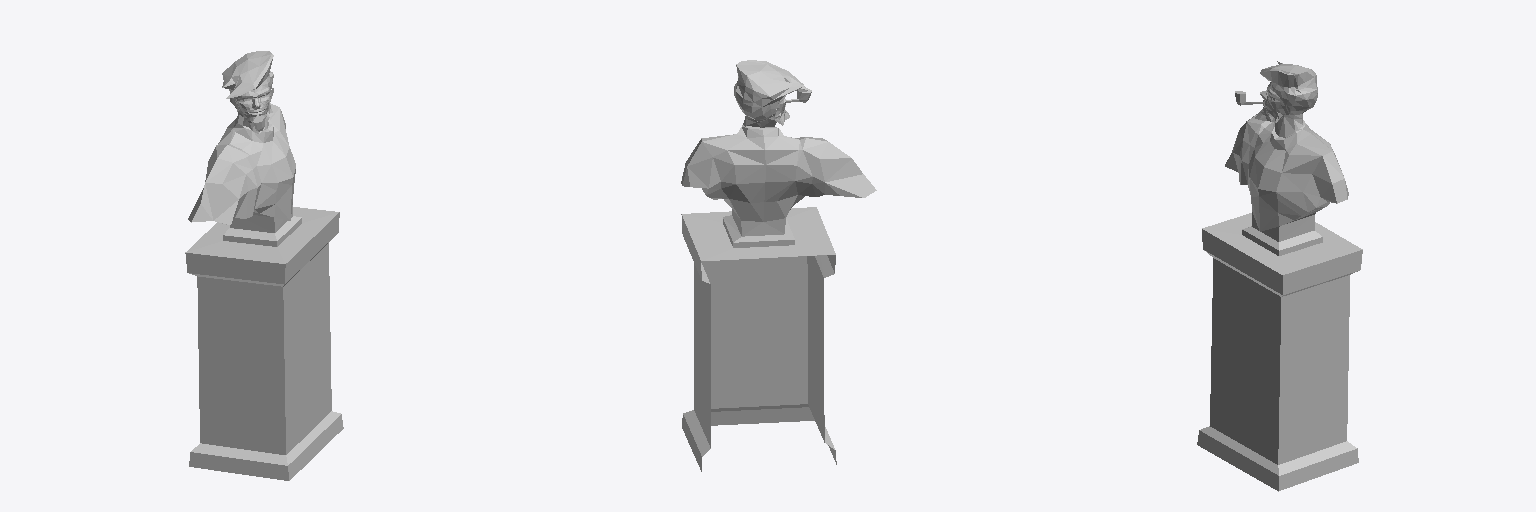
Rendered from ma_figure_a.obj.
The picture shows the model from 3 angles: view 1: azimuth 30°, elevation 25°; view 2: azimuth 150°, elevation 25°; view 3: azimuth 270°, elevation 25°; orthographic projection.
Parts seen in each view (by area): view 1: ma_figure_a; view 2: ma_figure_a; view 3: ma_figure_a.
Part boxes in pixels (bbox=[...]): ma_figure_a: bbox=[185, 51, 343, 480]; ma_figure_a: bbox=[681, 60, 876, 471]; ma_figure_a: bbox=[1197, 61, 1362, 491].
Size of the model in its own units: 98.3 by 209 by 81.12.